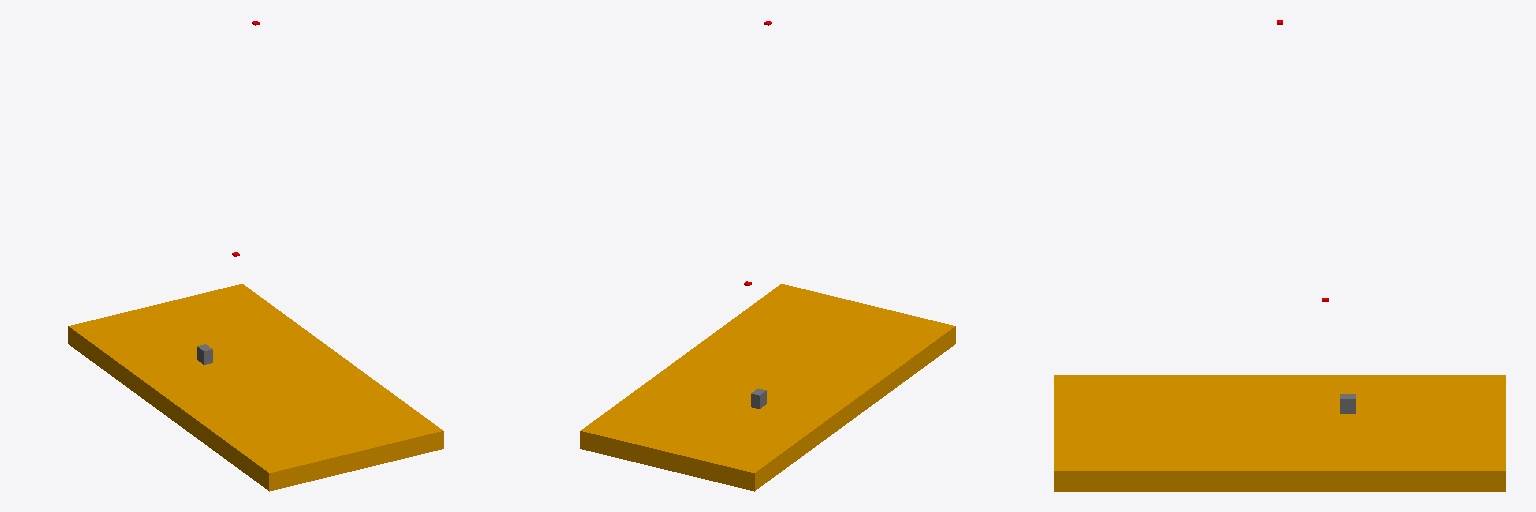
robot.urdf — wall_with_hold:
<?xml version="1.0"?>
<robot name="wall_with_hold">
  <!-- Define the materials used in the wall and hold -->
  <material name="brown">
    <color rgb="205 127 50"/>
  </material>
  <material name="gray">
    <color rgba="0.5 0.5 0.5 1"/>
  </material>

  <!-- Define the wall -->
  <link name="wall">
    <!-- Use a box shape for the wall -->
    <visual>
      <geometry>
        <box size="1 2 0.1"/>
      </geometry>
      <material name="brown"/>
    </visual>
    <collision>
      <geometry>
        <box size="1 2 0.1"/>
      </geometry>
    </collision>
    <inertial>
      <!-- Set the mass and inertia of the wall -->
      <mass value="10"/>
      <inertia ixx="1" ixy="0" ixz="0" iyy="1" iyz="0" izz="1"/>
    </inertial>
  </link>
    <link name="parent_link">

  <!-- Use a cylinder shape for the parent link -->
   <inertial>
    <!-- Set the mass and inertia of the parent link -->
    <mass value="0"/>
    <inertia ixx="0" ixy="0" ixz="0" iyy="0" iyz="0" izz="0"/>
   </inertial>
  </link>
  <joint name="wall_joint" type="fixed">
    <parent link="parent_link"/>
    <child link="wall"/>
    <origin xyz="0 0 0" rpy="0 0 0.0"/>
  </joint>

  <link name="hold">
    <!-- Use a cube shape for the hold -->
    <visual>
      <geometry>
        <box size="0.05 0.07 0.15"/>
      </geometry>
      <material name="gray"/>
    </visual>
    <collision>
      <geometry>
        <box size="0.05 0.07 0.15"/>
      </geometry>
    </collision>
    <inertial>
      <!-- Set the mass and inertia of the hold -->
      <mass value="1"/>
      <inertia ixx="1" ixy="0" ixz="0" iyy="1" iyz="0" izz="1"/>
    </inertial>
  </link>

  <!-- Define the joint between the wall and hold -->
  <joint name="wall_hold_joint" type="fixed">
    <!-- Attach the hold to the wall at the center of the top surface -->
    <origin xyz="-0.12 0.3 0.05" rpy="3.14 0 0.0"/>
    <parent link="wall"/>
    <child link="hold"/>
  </joint>

    <!--Cameras-->
  <joint name="body_camera_joint" type="fixed">
    <parent link="wall"/>
    <child link="body_camera_link"/>
        <origin
          xyz="0 0.2 .65"
          rpy="0 0 0" />
  </joint>

  <link name="body_camera_link">
      <visual>
          <geometry>
              <box size="0.03 0.03 0.01"/>
          </geometry>
          <material name="red">
            <color rgba="1.0 0.0 0.0 1.0"/>
          </material>
      </visual>
      <sensor name="bodyCamera" type="camera">
        <origin
          xyz="0 0 0"
          rpy="0 -90 0" />
        <camera name="camera_sensor">
          <horizontal_fov>60</horizontal_fov>
          <image>
            <width>640</width>
            <height>480</height>
            <format>R8G8B8</format>
          </image>
          <clip>
            <near>0.01</near>
            <far>100</far>
          </clip>
      </camera>
    </sensor>
  </link>

  <joint name="above_camera_joint" type="floating">
      <parent link="wall"/>
      <child link="above_camera_link"/>
      <origin
            xyz="0 0 2"
          rpy="0 0 0" />
  </joint>

  <link name="above_camera_link">
      <visual>
          <geometry>
              <box size="0.03 0.03 0.01"/>
          </geometry>
          <material name="red">
            <color rgba="1.0 0.0 0.0 1.0"/>
          </material>
      </visual>
      <sensor name="bodyCamera" type="camera">
        <origin
          xyz="0 0 2"
        rpy="0 -90 0" />
        <camera name="camera_sensor">
          <horizontal_fov>60</horizontal_fov>
          <image>
            <width>640</width>
            <height>480</height>
            <format>R8G8B8</format>
          </image>
          <clip>
            <near>0.01</near>
            <far>100</far>
          </clip>
      </camera>
    </sensor>
  </link>

</robot>

--- Facts derived from the render (not from the file) ---
3 views of the same robot in one strip: view 1: azimuth 30°, elevation 25°; view 2: azimuth 150°, elevation 25°; view 3: azimuth 270°, elevation 25° (orthographic).
Robot: wall_with_hold — 5 links, 4 joints (3 fixed, 1 floating); root link parent_link; default pose: every joint at zero.
Links seen in each view (by area): view 1: wall; view 2: wall; view 3: wall.
Link boxes in pixels (x1,y1,x2,y2): wall: (68, 284, 443, 491); wall: (580, 284, 955, 491); wall: (1054, 375, 1505, 491).
Bounding box of the posed robot: 1 × 2 × 2.06 m (x, y, z).
Geometry: primitives only (box / cylinder / sphere), no mesh files.